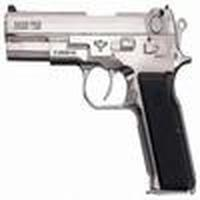gun: (2, 5, 199, 193)
